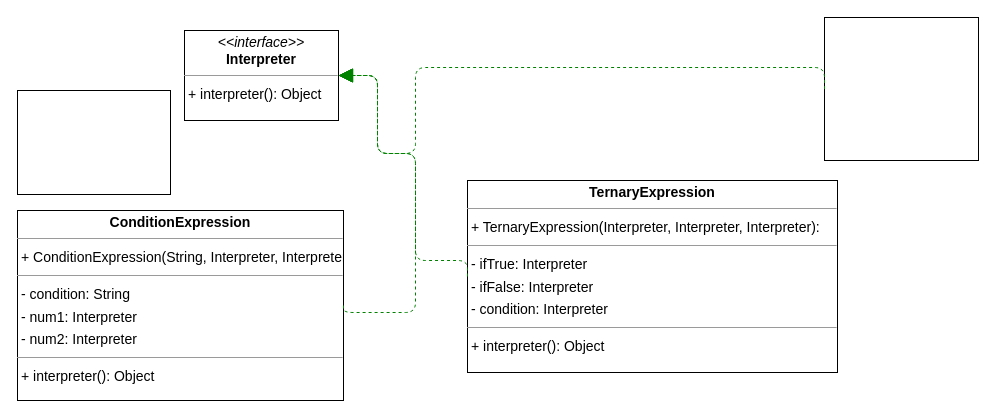
The diagram is 996 pixels wide and 418 high, and some of its shapes have lost their labels. The shapes that lost their labels are listed below. From the top down, each one's box as (x1, y1, x2, y2) in pixels, then its label:
(824, 16, 978, 160): Constant + Constant(Object): - value: Object + interpreter(): Object
(16, 90, 170, 194): Main + Main(): + main(String[]): void
